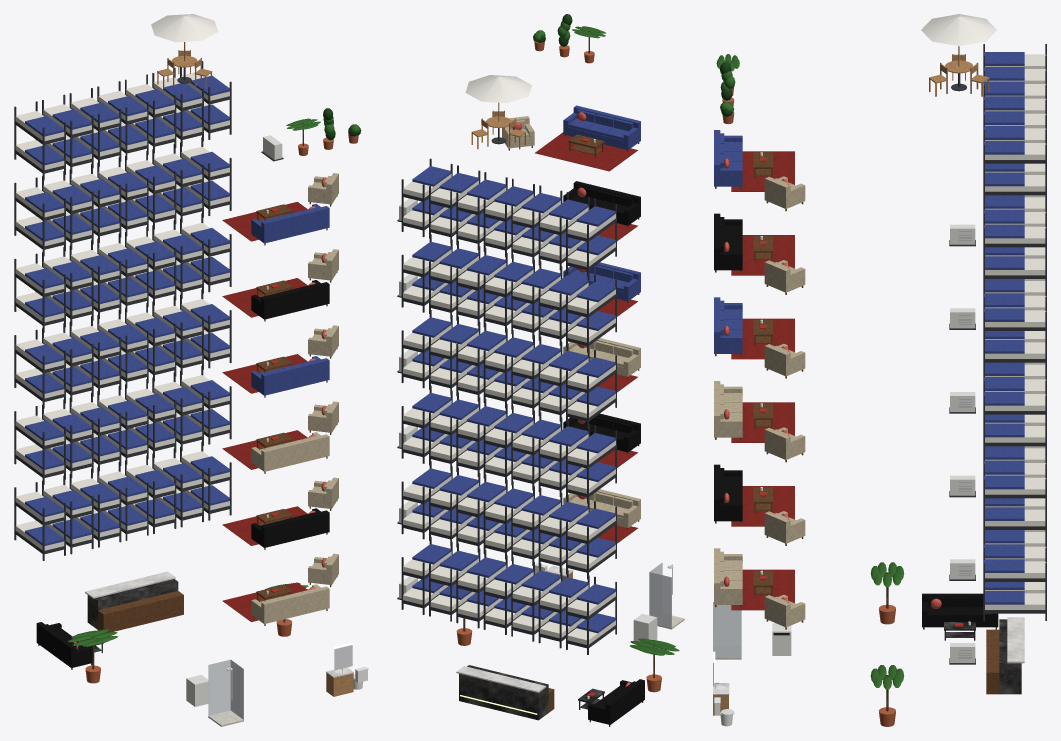
Rendered from i_capsule_tower.gltf.
3 renders of one model, left to right at view 1: azimuth 30°, elevation 25°; view 2: azimuth 150°, elevation 25°; view 3: azimuth 270°, elevation 25°, orthographic. The views are drawn at different scales.
Parts seen in each view (by area): view 1: I_capsule_tower; view 2: I_capsule_tower; view 3: I_capsule_tower.
Part boxes in pixels (x1,y1,x2,y2): I_capsule_tower: (14,14,368,726); I_capsule_tower: (397,14,684,726); I_capsule_tower: (713,14,1046,726).
Size of the model in its own units: 9.61 by 23.25 by 10.49.
27 materials, 10 textured.
